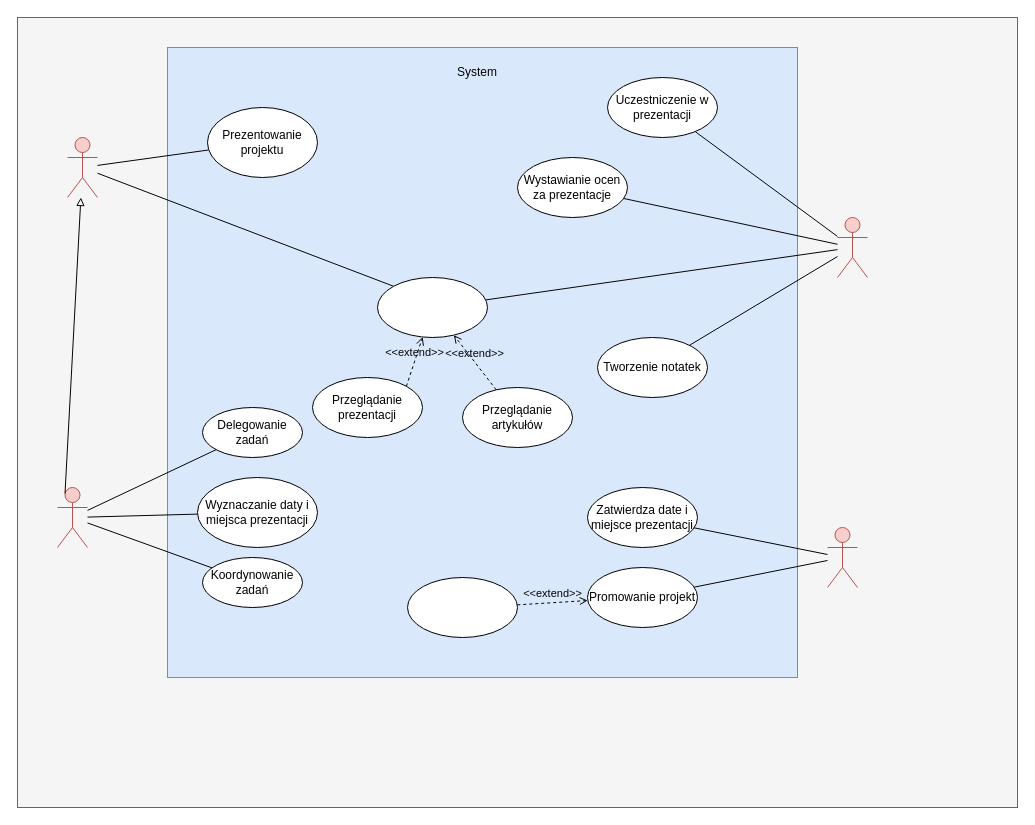
Some shapes in this 1035 by 825 pixel diagram are drawn without their labels. The shapes that lost their labels are listed below. From the top down, each one's centre as x and y in pixels, then its label:
(x=82, y=167): Członek zespołu
(x=852, y=247): Recenzent
(x=432, y=307): Przeglądanie dokumentacji projektu
(x=72, y=517): Lider zespołu
(x=842, y=557): Organizator
(x=462, y=607): Zlecanie rozwieszenia posterów
